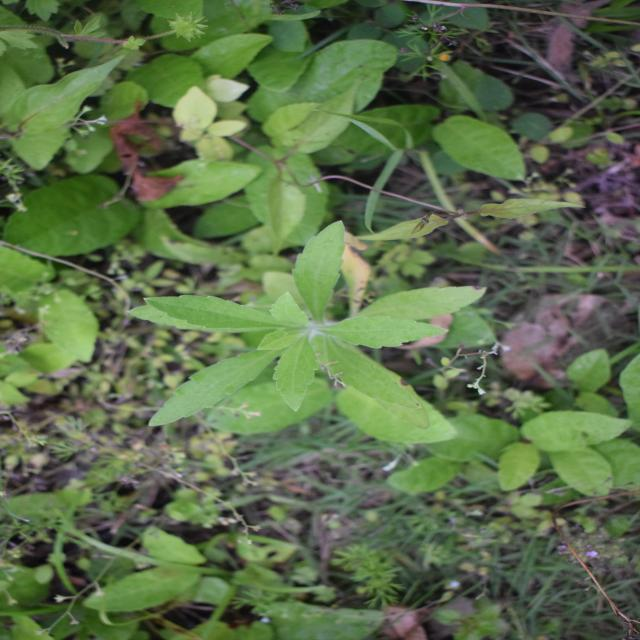horseweed: (197, 148, 408, 465)
